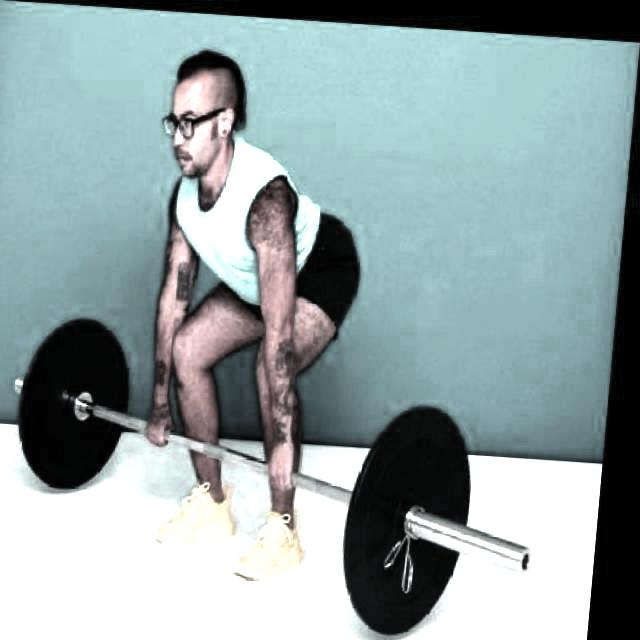barbell: (340, 405, 562, 640)
